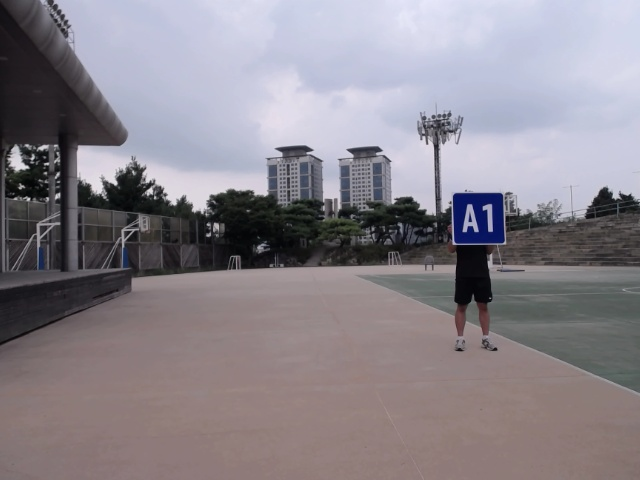delivery_a1: (453, 193, 506, 245)
